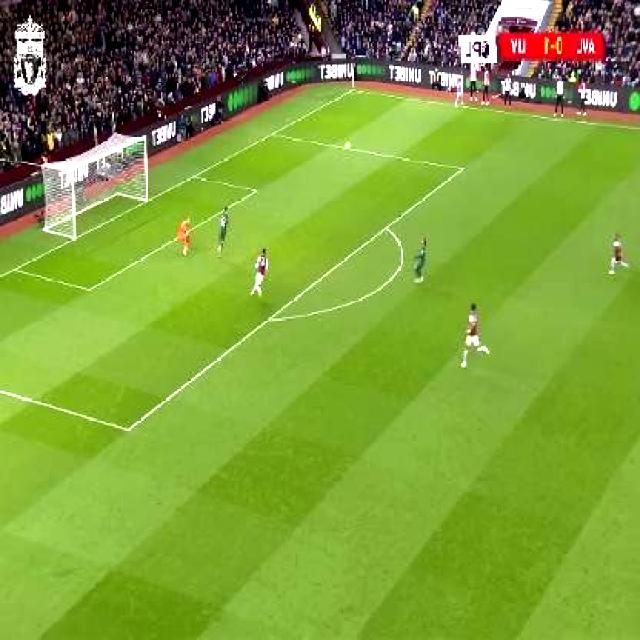bigarea_bottom_inner: (122, 417, 136, 440)
bigarea_top_inner: (457, 162, 468, 176)
bigarea_top_outter: (269, 129, 277, 137)
bottom_arc_area_intersection: (266, 312, 276, 325)
corner: (351, 86, 360, 92)
smallarea_bottom_inner: (83, 280, 95, 297)
smallarea_bottom_outter: (11, 260, 23, 275)
smallarea_top_inner: (251, 184, 260, 196)
smallarea_top_outter: (191, 170, 200, 182)
top_arc_area_intersection: (383, 221, 391, 234)
